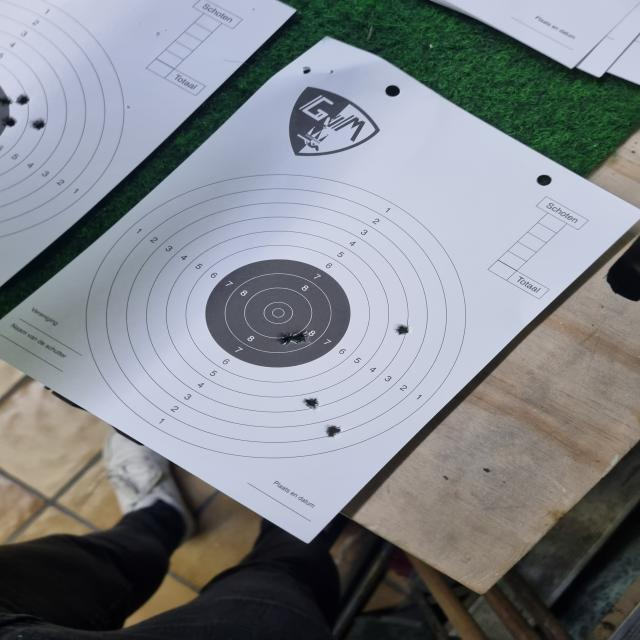2: (326, 425, 341, 438)
4: (303, 398, 319, 410), (395, 324, 409, 335)
9: (293, 331, 307, 343), (281, 334, 293, 345)
Target: (85, 174, 467, 459)
black_contour: (204, 259, 351, 369)
